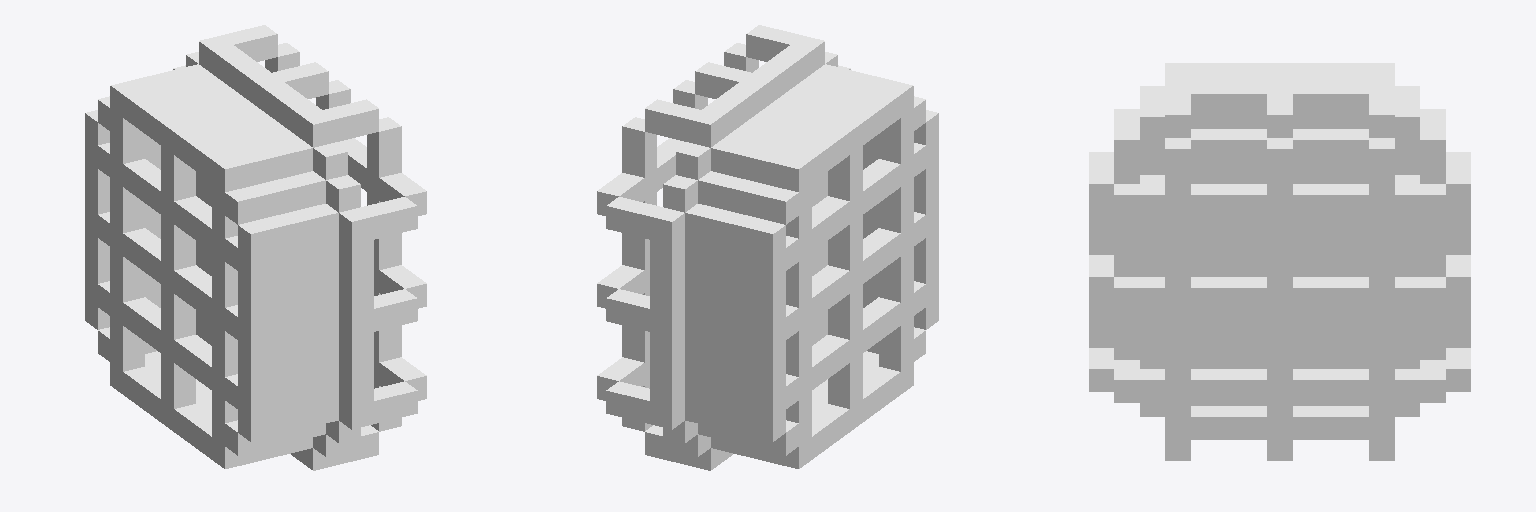
File: HugeVentilatorCage.obj
3 views of the same model, side by side, from view 1: azimuth 30°, elevation 25°; view 2: azimuth 150°, elevation 25°; view 3: azimuth 270°, elevation 25° (orthographic).
Visible parts, largest first — view 1: object 1; view 2: object 1; view 3: object 1.
Part boxes in pixels (x1,y1,x2,y2): object 1: (85, 25, 426, 470); object 1: (597, 25, 938, 470); object 1: (1089, 63, 1470, 460).
Bounding box in the file's own units: 0.8 × 1.5 × 1.5.